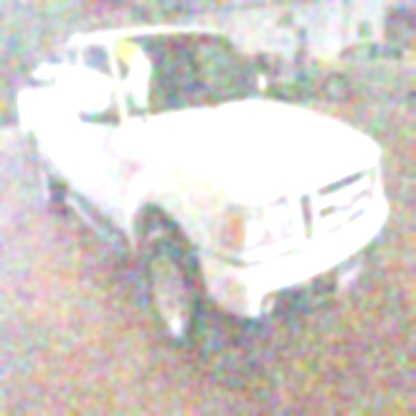Vehicle: (21, 26, 392, 362)
